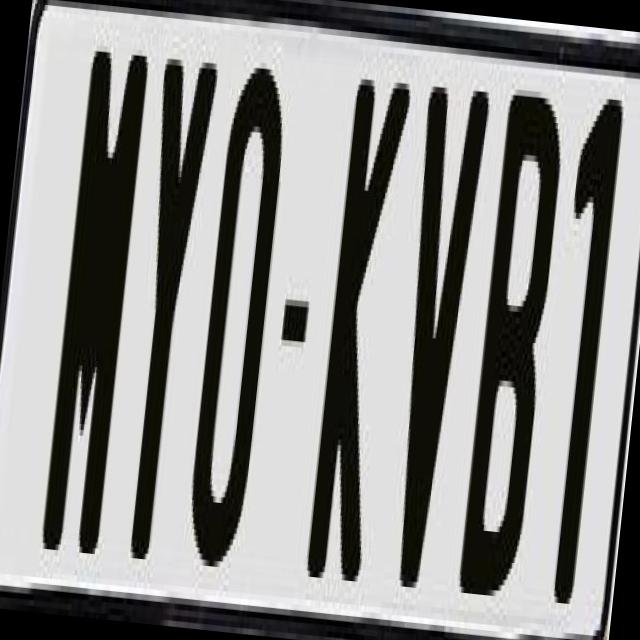0: (180, 59, 288, 563)
1: (526, 84, 631, 616)
B: (452, 82, 570, 621)
K: (304, 78, 411, 599)
M: (38, 32, 157, 572)
V: (374, 74, 488, 596)
Y: (108, 52, 214, 561)
